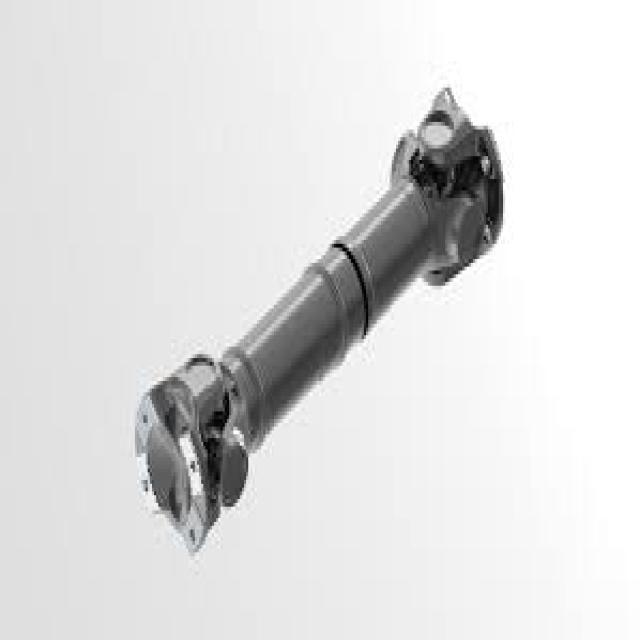Turning: (95, 62, 536, 588)
